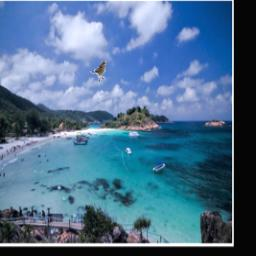Sparrow: (89, 59, 107, 81)
